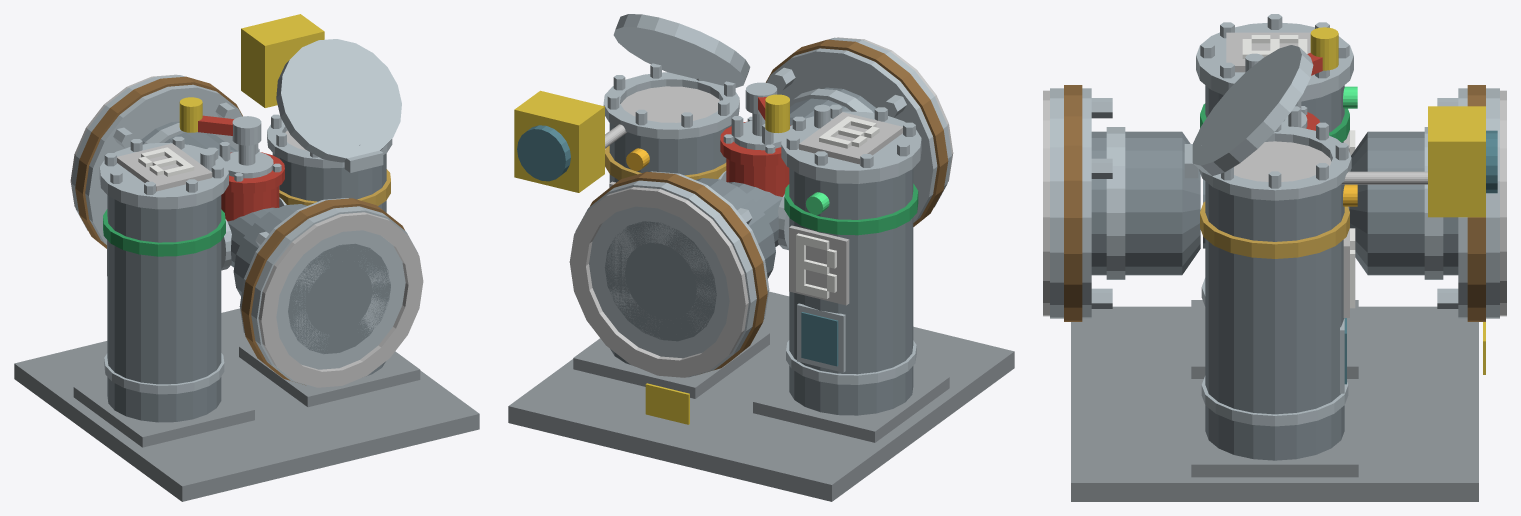
Rendered from body_b_open.obj.
3 views of the same model, side by side, from view 1: azimuth 30°, elevation 25°; view 2: azimuth 150°, elevation 25°; view 3: azimuth 270°, elevation 25° (orthographic). The views are drawn at different scales.
Size of the model in its own units: 0.9 by 0.9703 by 1.
